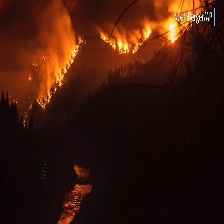fire: (39, 43, 77, 105), (99, 23, 154, 56), (168, 18, 181, 52)
smoke: (10, 7, 72, 72)
